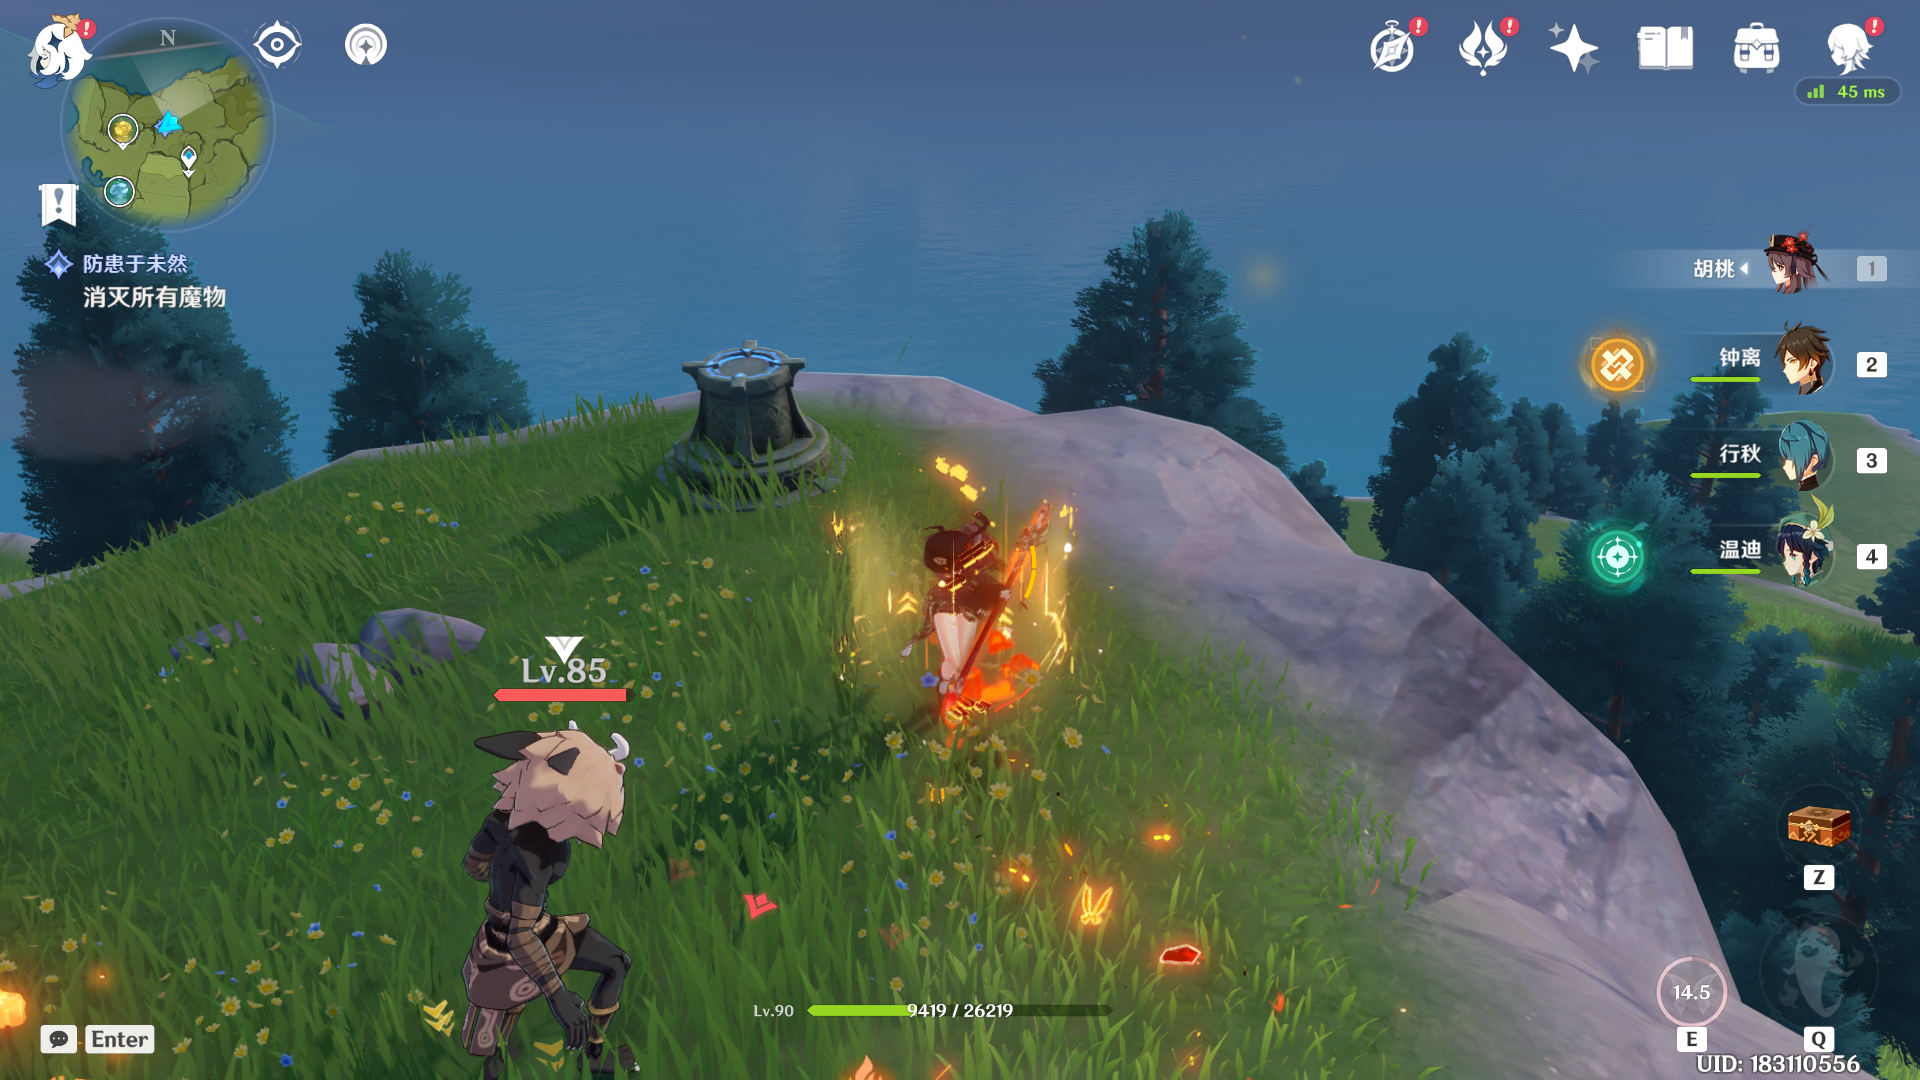character: (852, 464, 1104, 802)
hili: (357, 659, 694, 1080)
